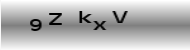9: (28, 18, 43, 32)
V: (111, 9, 128, 24)
Z: (47, 12, 63, 26)
k: (78, 9, 92, 24)
x: (92, 20, 107, 31)
